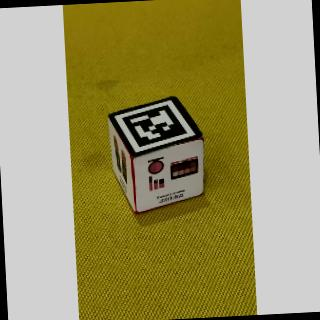Expired_Cosmetic: (134, 150, 217, 208)
